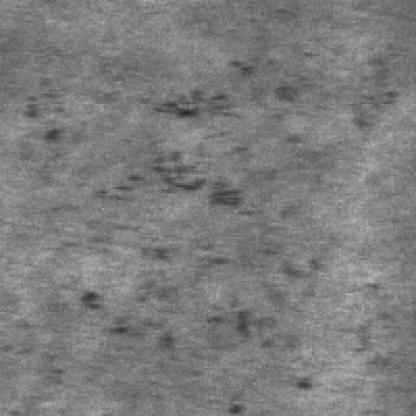rolled-in_scale: (77, 246, 329, 345), (124, 83, 301, 210)
